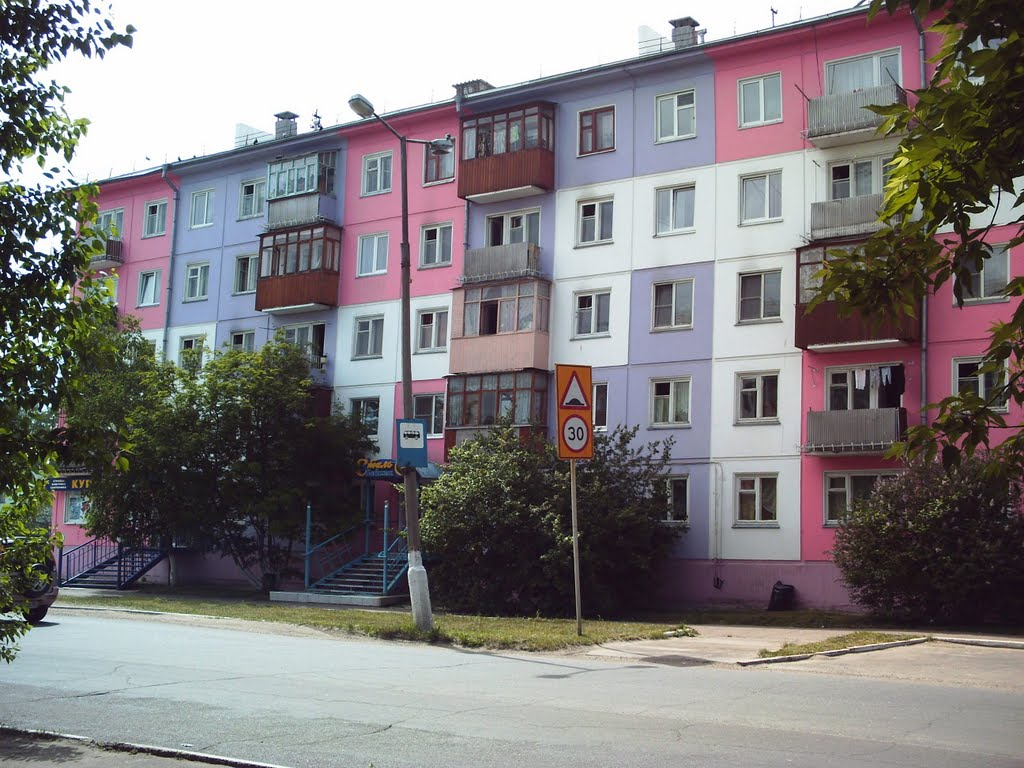sign: (552, 360, 596, 411), (557, 408, 594, 462), (394, 415, 430, 469)
